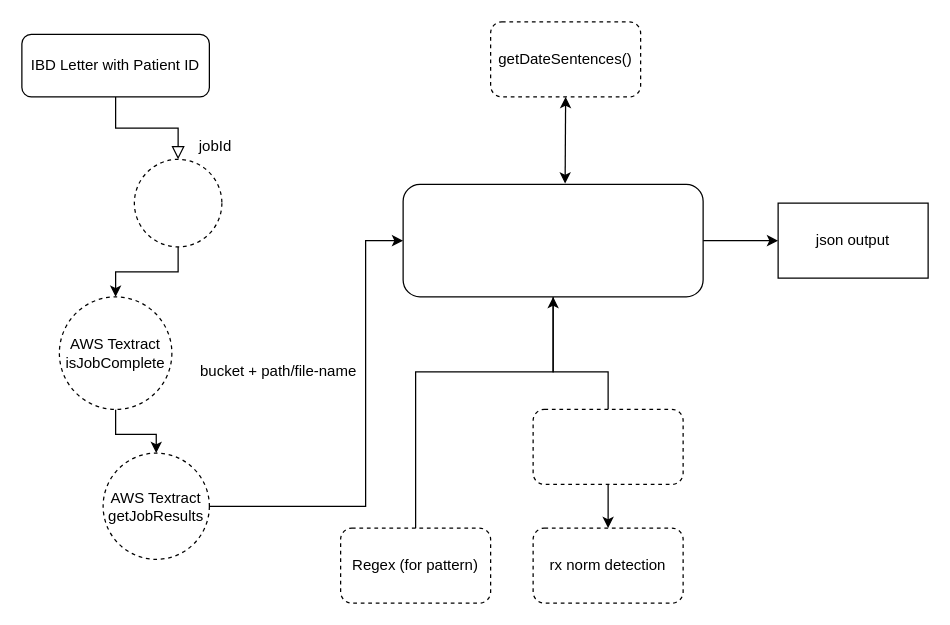
This 950x625 diagram has some shape labels left out. The centre of each missing label's shape, as x and y in pixels:
AWS Comprehend Medical detected entities: the point at 607,446
AWS Textract startJob: the point at 177,202
process_file(): the point at 552,240
